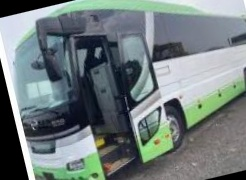bus: (5, 0, 246, 180)
